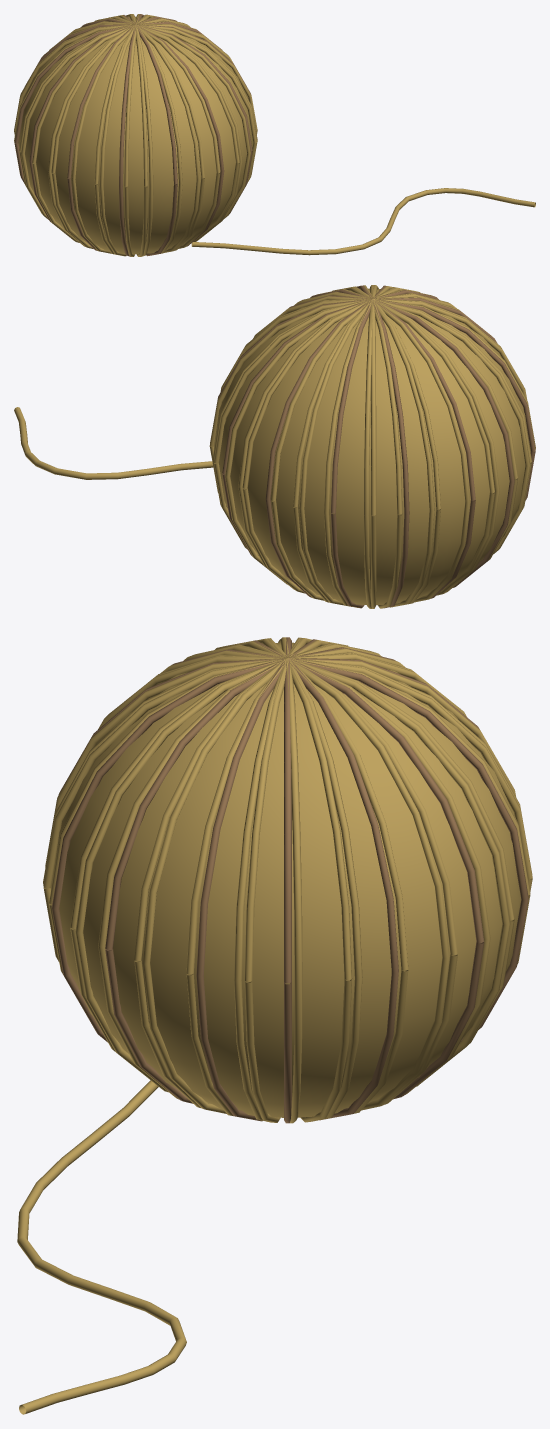
The model's file is yarn.glb.
3 views of the same model, one above another, from view 1: azimuth 30°, elevation 25°; view 2: azimuth 150°, elevation 25°; view 3: azimuth 270°, elevation 25° (orthographic). The views are drawn at different scales.
Parts seen in each view (by area): view 1: yarn; view 2: yarn; view 3: yarn.
Boxes of the visible parts, x1,y1,x2,y2 form: yarn: [14, 14, 535, 256]; yarn: [14, 285, 535, 608]; yarn: [17, 637, 532, 1414].
Size of the model in its own units: 0.3837 by 0.1846 by 0.1943.
